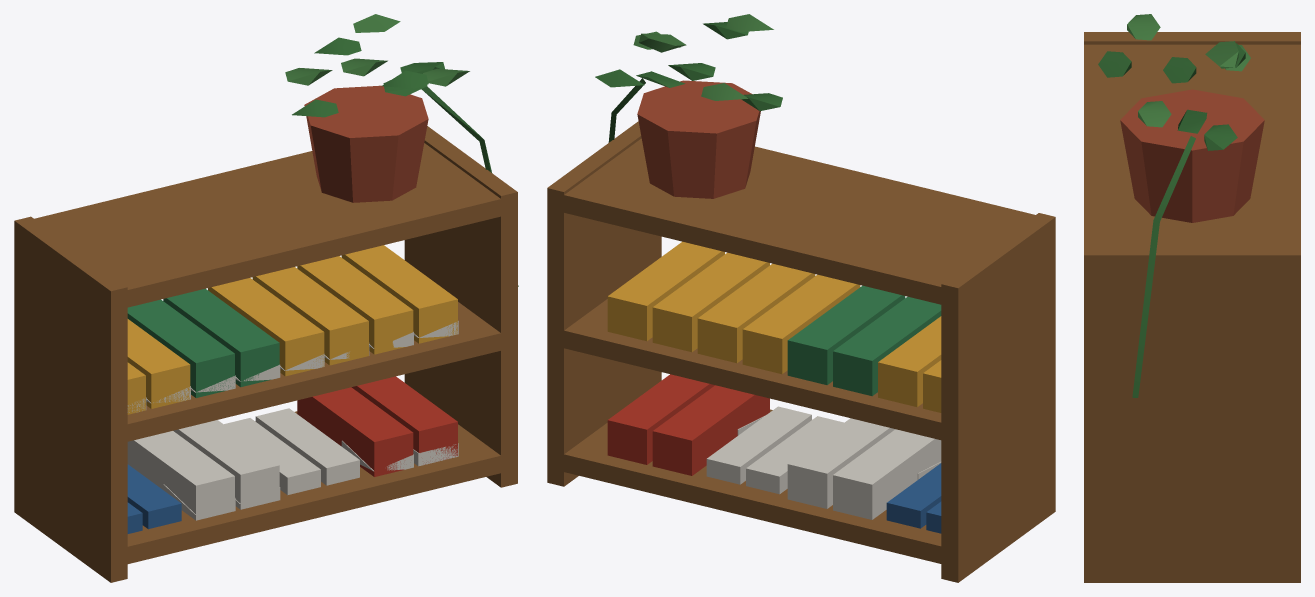
The model's file is ke_giay.glb.
The picture shows the model from 3 angles, left to right: view 1: azimuth 30°, elevation 25°; view 2: azimuth 150°, elevation 25°; view 3: azimuth 270°, elevation 25°; orthographic projection. The views are drawn at different scales.
Visible parts, largest first — view 1: ke_giay; view 2: ke_giay; view 3: ke_giay.
Part boxes in pixels (left/top/right/bottom): ke_giay: left=14, top=14, right=518, bottom=582; ke_giay: left=547, top=14, right=1055, bottom=582; ke_giay: left=1084, top=14, right=1300, bottom=582.
Bounding box in the file's own units: 0.77 × 0.7495 × 0.3.
